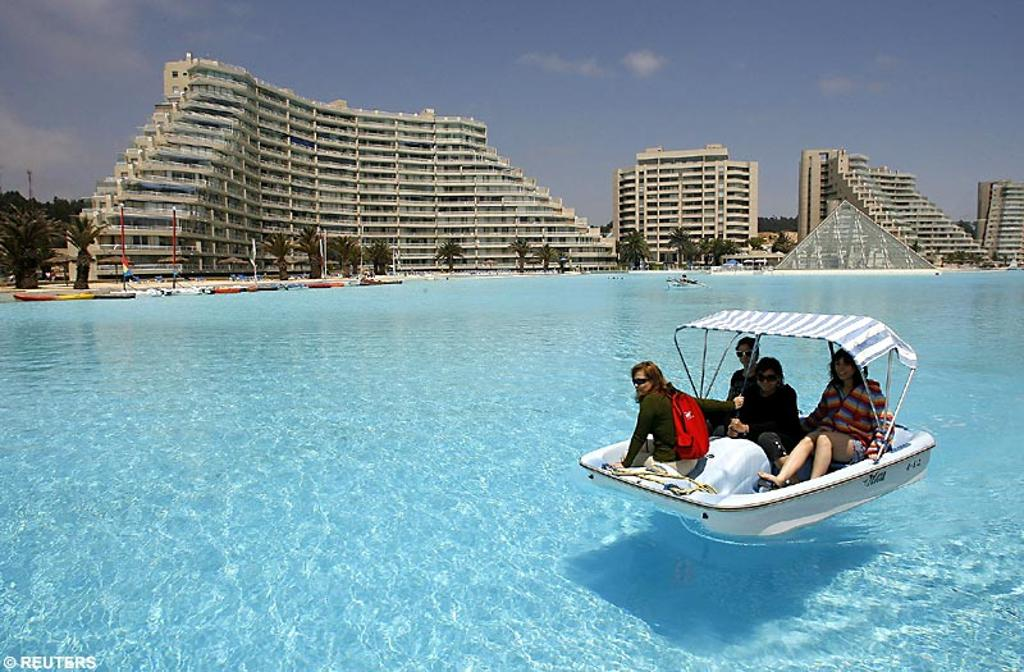face: (756, 368, 777, 392), (632, 371, 652, 395), (834, 357, 854, 380), (737, 344, 753, 366)
